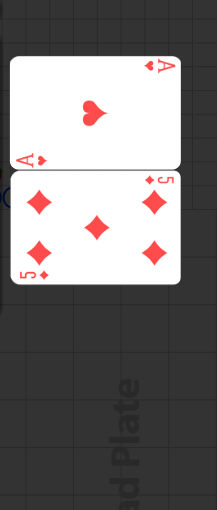5D: (18, 269, 51, 281)
AH: (141, 58, 176, 75)
